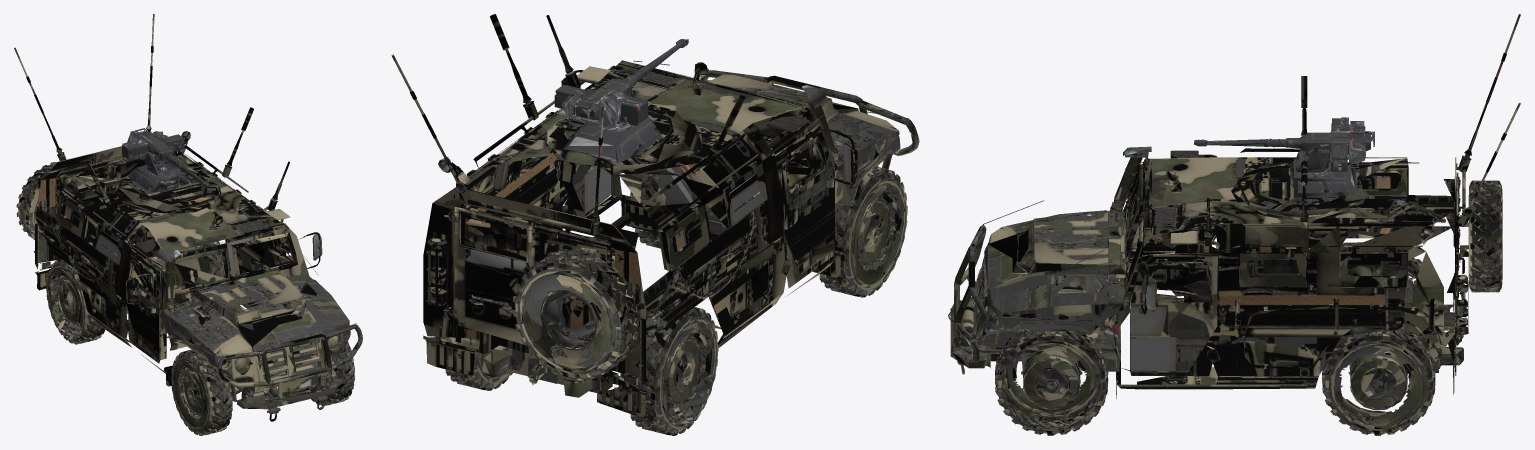
Rendered from tiger_armored.glb.
3 views of the same model, side by side, from view 1: azimuth 30°, elevation 25°; view 2: azimuth 150°, elevation 25°; view 3: azimuth 270°, elevation 25° (orthographic). The views are drawn at different scales.
Parts seen in each view (by area): view 1: Body_Cabin, Body_Front, Part_BumperF, Part_Tailgate, Part_Hood, tire_FR, Passenger_Door, RoofHatch, tire_RR, Part_FenderFR, SpareTire, MG_Base (+17 smaller); view 2: Body_Cabin, Part_Tailgate, SpareTire, Passenger_Door, tire_RR, tire_FR, RoofHatch, Body_Front, Part_FenderFR, MG_Base, Part_BumperR, MG_Body (+19 smaller); view 3: Body_Cabin, Driver_Door, Body_Front, tire_FL, tire_RL, Part_Hood, Part_FenderFL, RoofHatch, SpareTire, Part_BumperF, Rim_FL, Rim_RL (+15 smaller).
Boxes of the visible parts, x1,y1,x2,y2 form: Body_Cabin: (35, 131, 309, 386); Body_Front: (177, 276, 341, 401); Part_BumperF: (217, 323, 362, 421); Part_Tailgate: (33, 146, 177, 270); Part_Hood: (182, 251, 318, 322); tire_FR: (171, 349, 232, 435); Passenger_Door: (126, 249, 162, 363); RoofHatch: (113, 169, 220, 214); tire_RR: (46, 259, 104, 344); Part_FenderFR: (163, 301, 238, 377); SpareTire: (16, 162, 56, 239); MG_Base: (127, 162, 193, 194); Body_Cabin: (423, 60, 842, 417); Part_Tailgate: (423, 187, 645, 388); SpareTire: (512, 249, 639, 380); Passenger_Door: (775, 114, 834, 288); tire_RR: (626, 307, 718, 435); tire_FR: (817, 166, 907, 297); RoofHatch: (540, 104, 701, 175); Body_Front: (655, 93, 887, 252); Part_FenderFR: (831, 111, 913, 206); MG_Base: (563, 117, 662, 162); Part_BumperR: (482, 348, 602, 397); MG_Body: (554, 78, 648, 125); Body_Cabin: (1113, 148, 1468, 398); Driver_Door: (1126, 251, 1216, 375); Body_Front: (979, 215, 1126, 374); tire_FL: (995, 329, 1115, 435); tire_RL: (1322, 330, 1435, 435); Part_Hood: (1018, 212, 1125, 277); Part_FenderFL: (982, 276, 1125, 335); RoofHatch: (1231, 160, 1365, 223); SpareTire: (1468, 180, 1502, 292); Part_BumperF: (948, 225, 990, 374); Rim_FL: (1023, 349, 1080, 410); Rim_RL: (1350, 349, 1407, 410).
Size of the model in its own units: 3.04 by 3.81 by 5.95.
7 materials, 7 textured.
